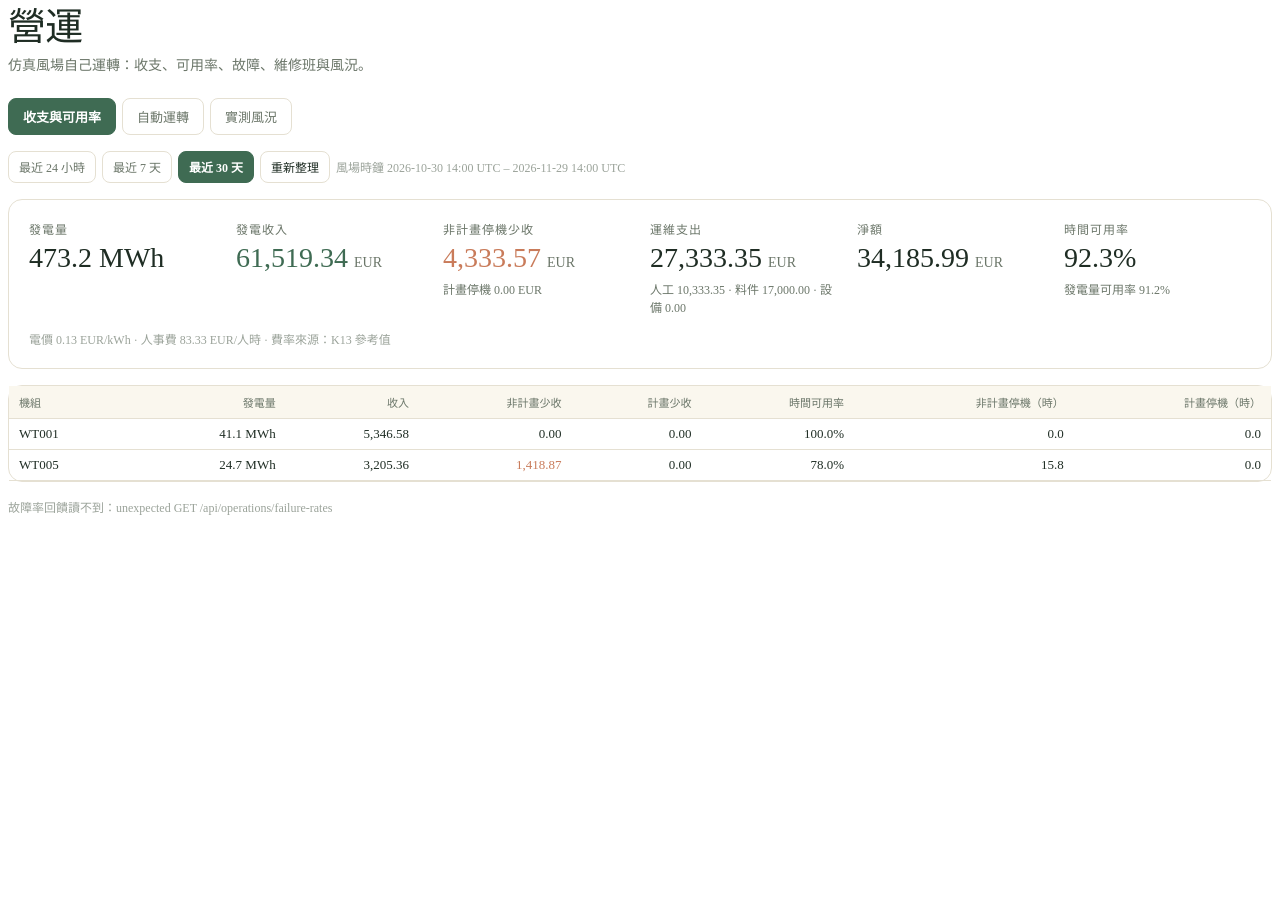
Test case: 實測風況 › 目前的風況與匯入過的序列
What coordinates should you click on to do the following:
click the button "實測風況"
I would click on:
 (251, 116)
Its box is [210,98,292,135].
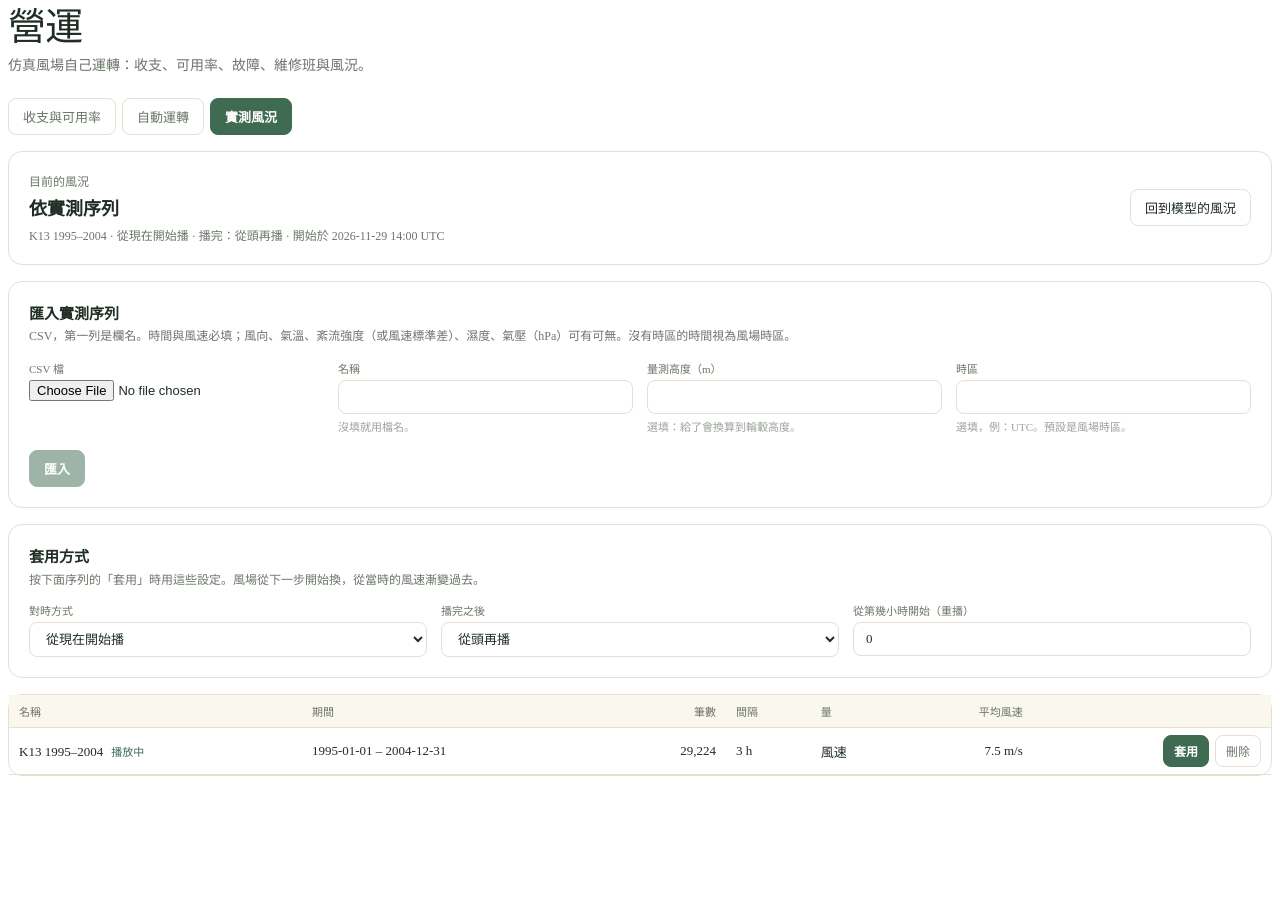
Expected: the text "K13 1995–2004" is shown, [19,744,103,759]
Expected: the text with test id "wind-mode" reads "依實測序列", [29,199,119,219]
Expected: the text "播放中" is shown, [111,746,144,758]
